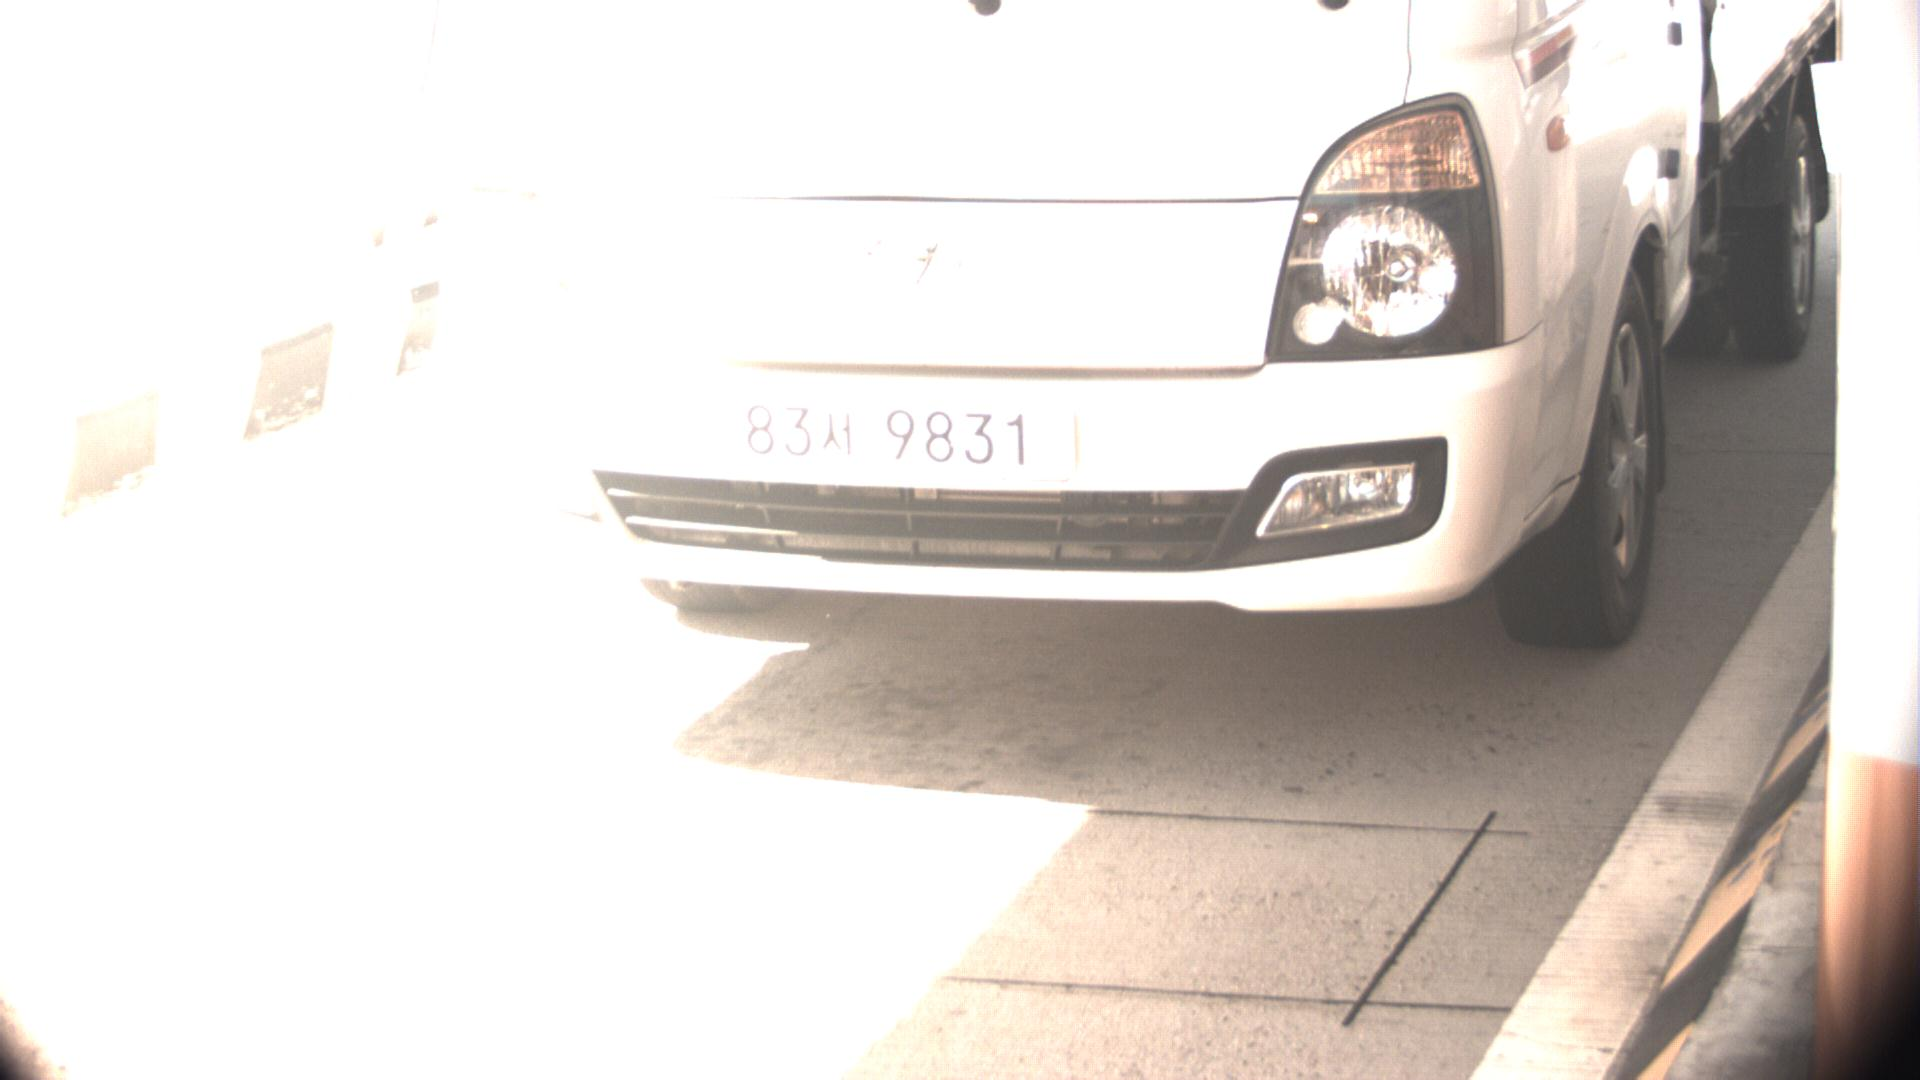car: (415, 3, 1851, 663)
plate: (675, 377, 1063, 485)
